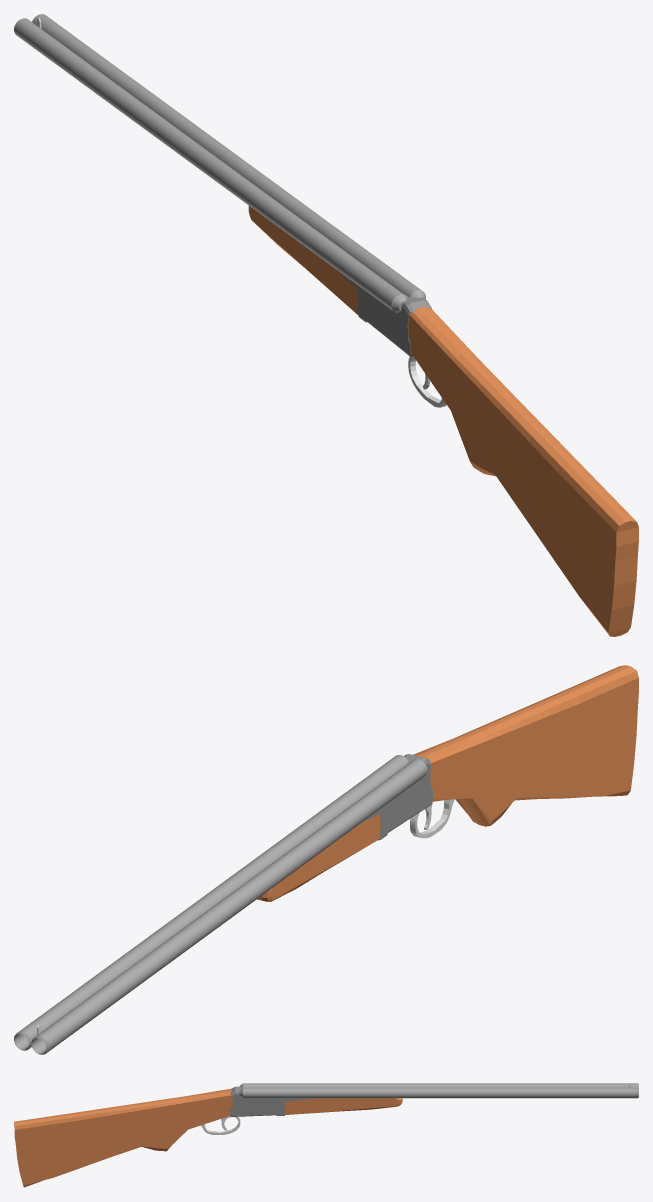
Rendered from M.shotgun.fbx.
The picture shows the model from 3 angles, top to bottom: view 1: azimuth 30°, elevation 25°; view 2: azimuth 150°, elevation 25°; view 3: azimuth 270°, elevation 25°; orthographic projection. The views are drawn at different scales.
Parts seen in each view (by area): view 1: Plane.003, Cylinder, Plane.001; view 2: Plane.003, Cylinder, Plane.001, Plane.002; view 3: Plane.003, Cylinder, Plane.001, Plane.002.
Boxes of the visible parts, box(x1,y1,x2,y2) form: Plane.003: box(248, 205, 638, 636); Cylinder: box(14, 14, 425, 312); Plane.001: box(340, 272, 431, 356); Plane.003: box(257, 665, 638, 901); Cylinder: box(14, 755, 427, 1054); Plane.001: box(363, 754, 432, 840); Plane.002: box(410, 799, 454, 838); Plane.003: box(14, 1089, 402, 1187); Cylinder: box(239, 1083, 638, 1098); Plane.001: box(230, 1086, 313, 1116); Plane.002: box(200, 1116, 240, 1134).
Bounding box in the file's own units: 16.59 × 89.06 × 495.
